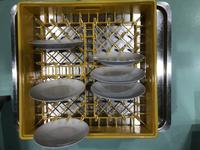Dish: (34, 118, 89, 148), (28, 78, 86, 102), (91, 80, 145, 101), (90, 65, 146, 85), (91, 51, 145, 66), (27, 40, 84, 50)
